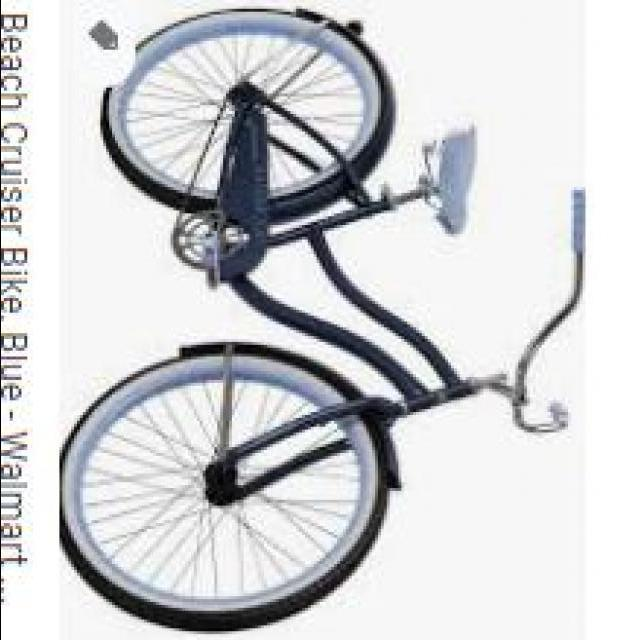bicycle: (65, 1, 600, 612)
